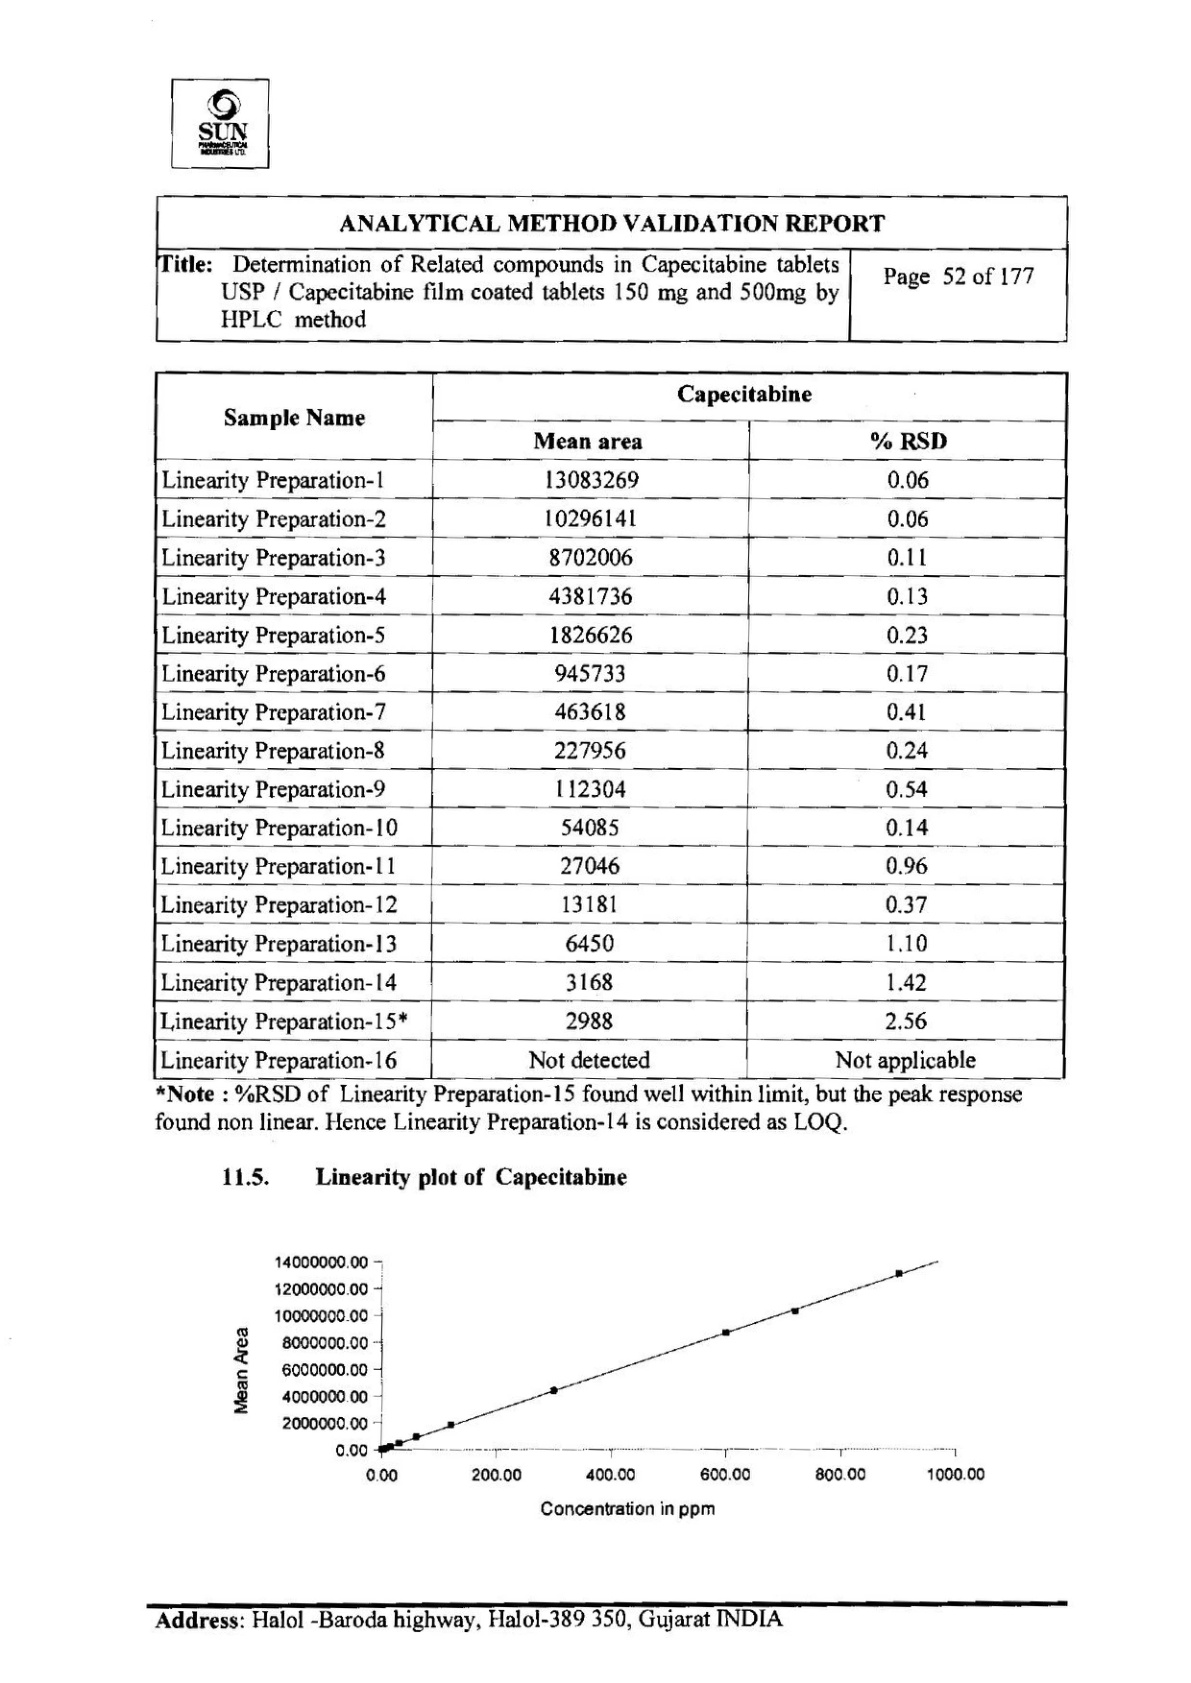merged_cells: (151, 369, 1069, 1080), (153, 195, 1070, 345)
